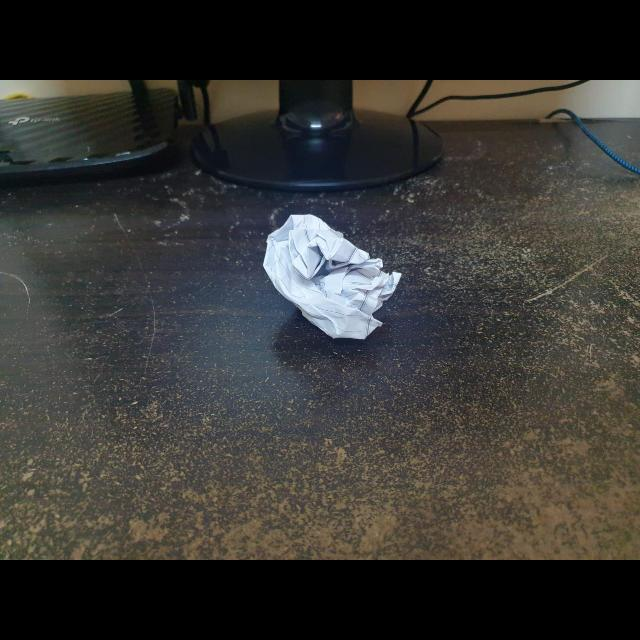trash: (261, 205, 413, 343)
